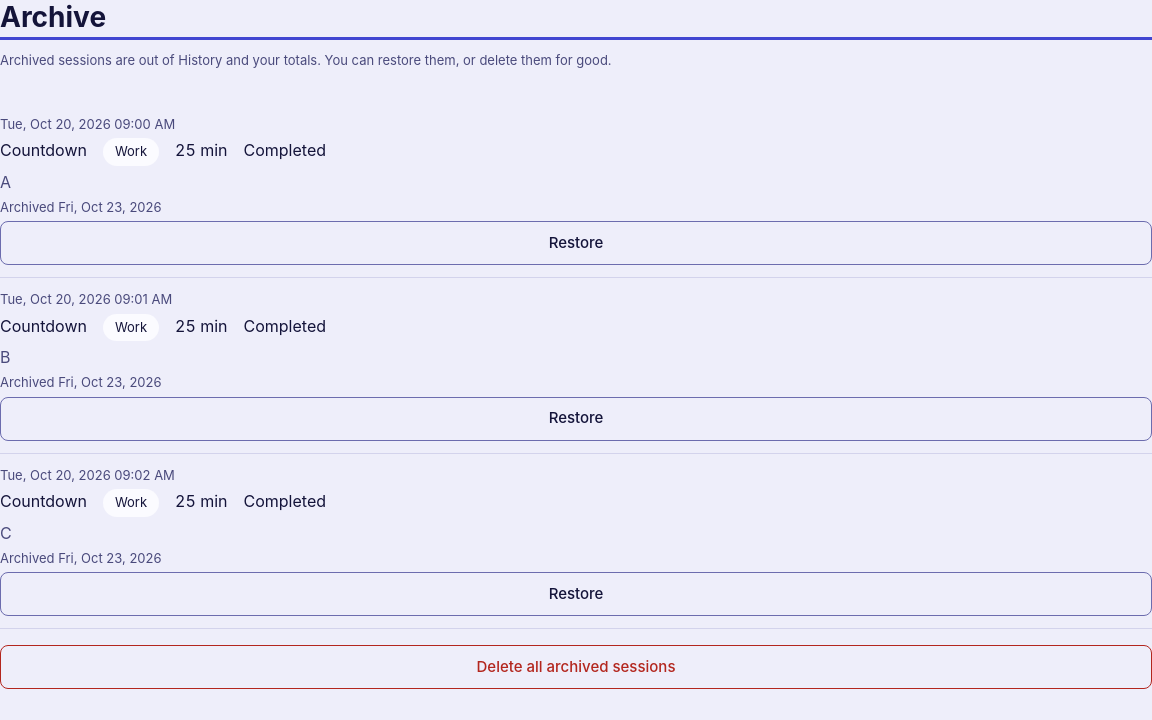
Scenario: ArchiveScreen › ac11_6 asks first, stating the count, and Cancel deletes nothing
Expected: the text "A" is shown, [0,172,11,192]
Click the button "Delete all archived sessions" at (576, 667), box [0,645,1151,689]
(page scrolled)
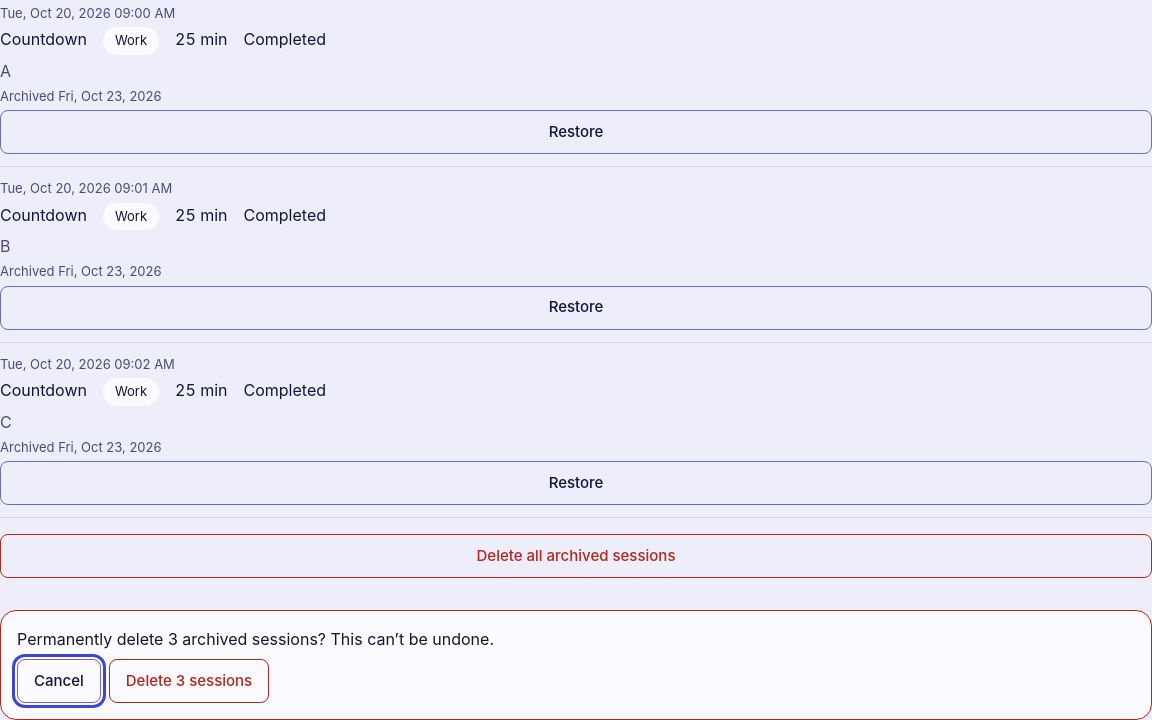
Result: the dialog shows "Permanently delete 3 archived sessions? This can’t be undone." at [0,610,1151,719]
Click the button "Cancel" at (59, 681), box [17,659,101,703]
(page scrolled)
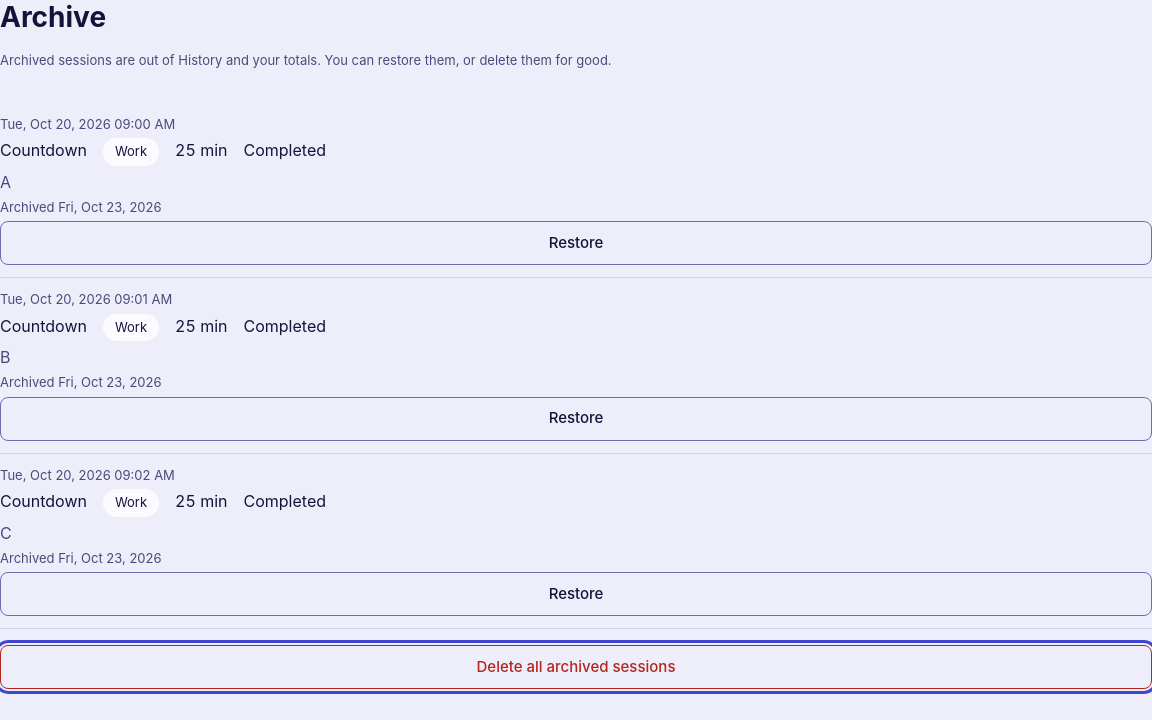
Result: the dialog is gone
